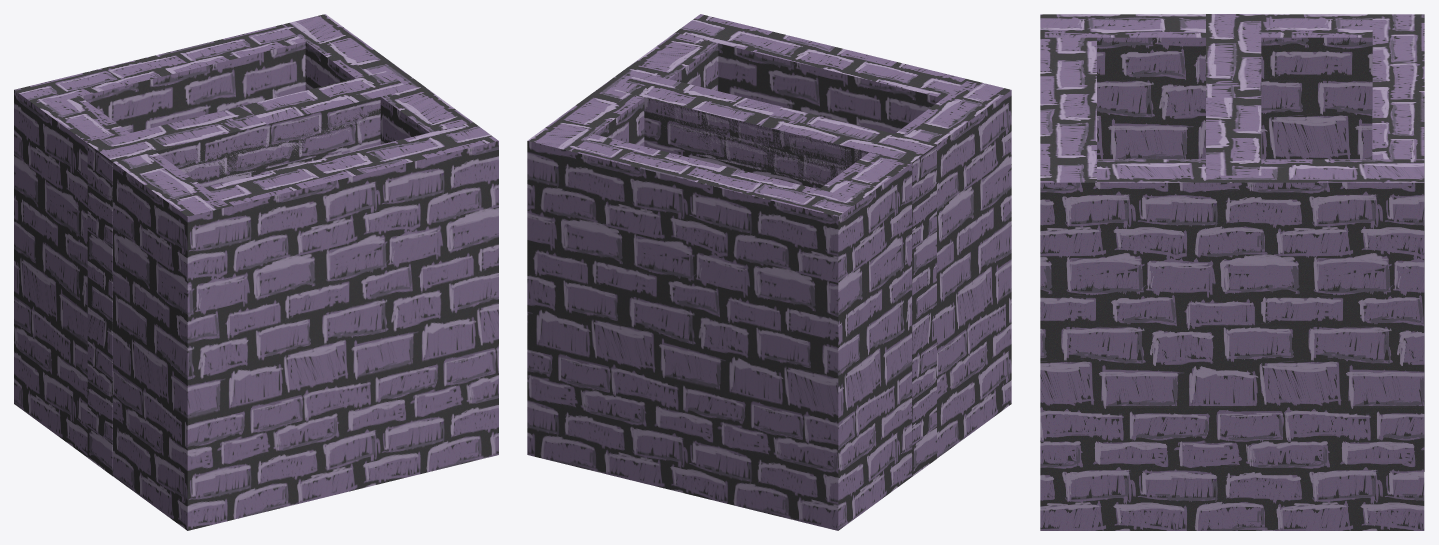
The model's file is brick walls.fbx.
3 views of the same model, side by side, from view 1: azimuth 30°, elevation 25°; view 2: azimuth 150°, elevation 25°; view 3: azimuth 270°, elevation 25° (orthographic). The views are drawn at different scales.
Parts seen in each view (by area): view 1: room, wallBlank, wallWindow; view 2: room, wallBlank, wallWindow; view 3: room, wallWindow, wallBlank.
Boxes of the visible parts, x1,y1,x2,y2 form: room: [14, 14, 498, 530]; wallBlank: [87, 71, 410, 476]; wallWindow: [88, 104, 380, 412]; room: [527, 14, 1011, 530]; wallBlank: [614, 72, 936, 476]; wallWindow: [644, 97, 936, 185]; room: [1040, 14, 1424, 530]; wallWindow: [1206, 14, 1261, 97]; wallBlank: [1206, 97, 1261, 175].
Bounding box in the file's own units: 542 × 523 × 523.
